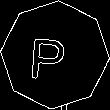P_N: (35, 28, 75, 82)
